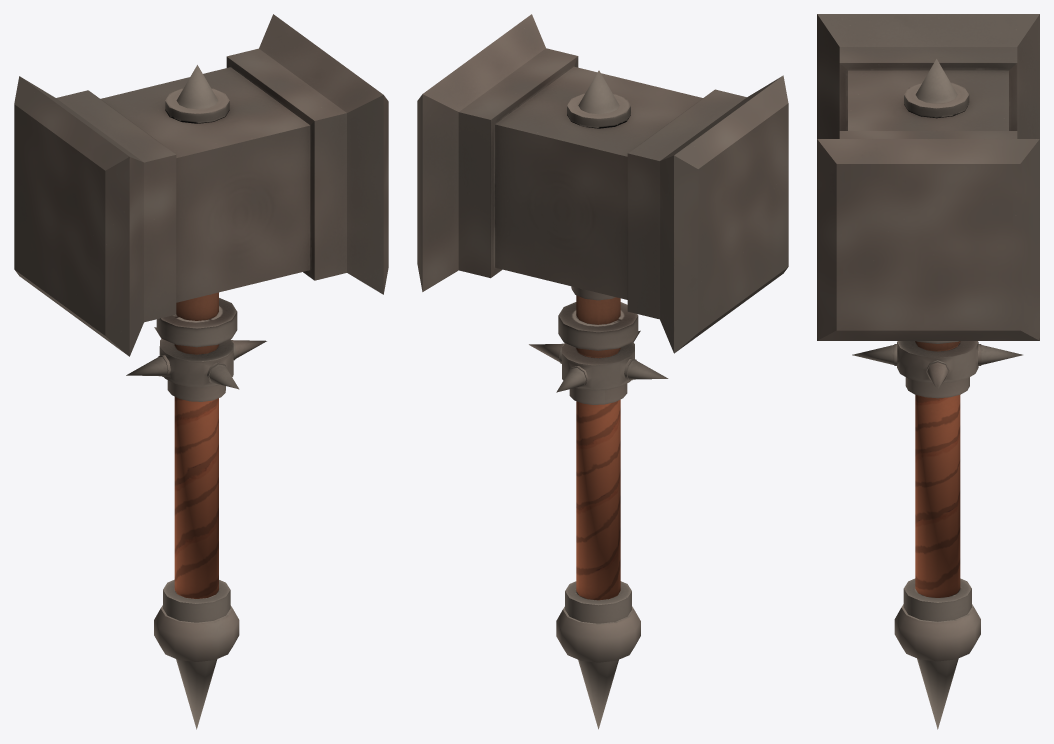
The model's file is hammer.dae.
The picture shows the model from 3 angles, left to right: view 1: azimuth 30°, elevation 25°; view 2: azimuth 150°, elevation 25°; view 3: azimuth 270°, elevation 25°; orthographic projection.
Parts seen in each view (by area): view 1: lowPolyHammer; view 2: lowPolyHammer; view 3: lowPolyHammer.
Boxes of the visible parts, x1=… form: lowPolyHammer: x1=14, y1=14, x2=388, y2=729; lowPolyHammer: x1=417, y1=14, x2=788, y2=729; lowPolyHammer: x1=817, y1=14, x2=1039, y2=729.
Bounding box in the file's own units: 8.11 × 5.47 × 18.21.
Materials: 1 (1 with a texture image).
